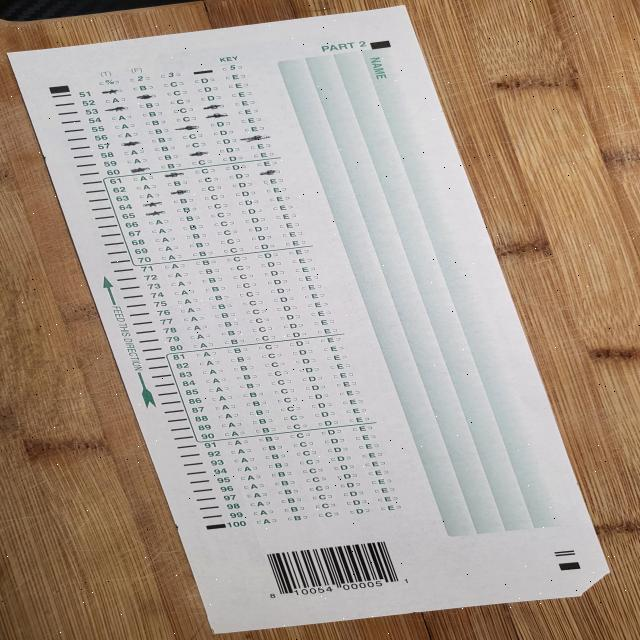scantron_back: (9, 6, 610, 635)
